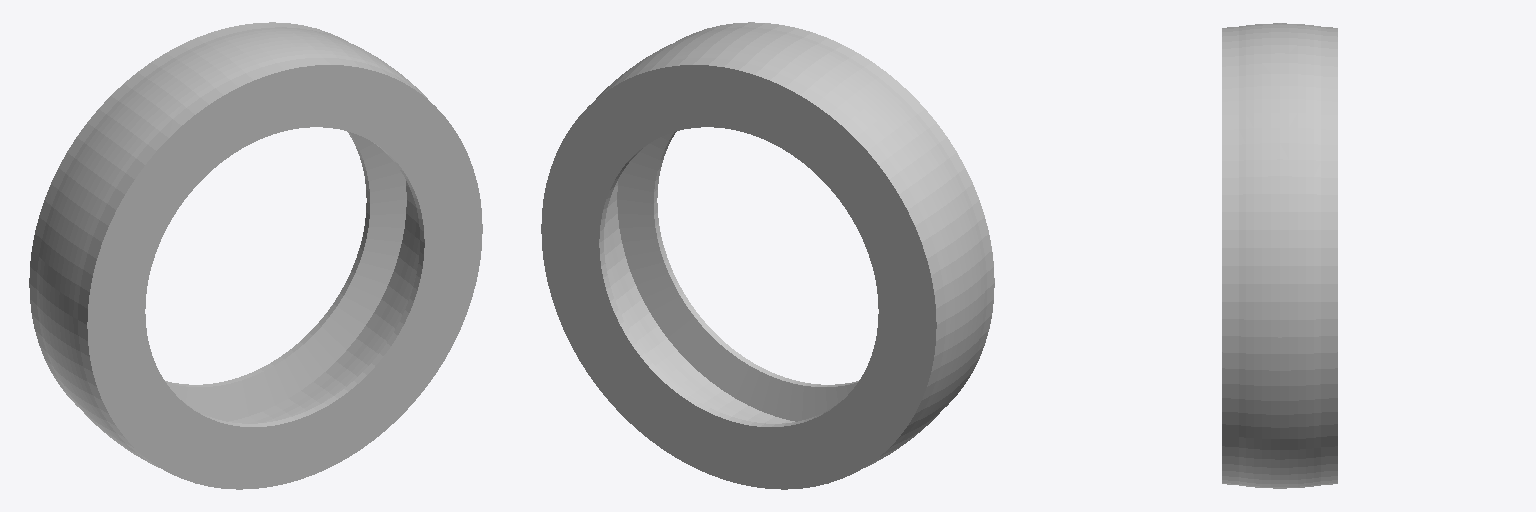
File: Tire.obj
The picture shows the model from 3 angles: view 1: azimuth 30°, elevation 25°; view 2: azimuth 150°, elevation 25°; view 3: azimuth 270°, elevation 25°; orthographic projection.
Parts seen in each view (by area): view 1: circle; view 2: circle; view 3: circle.
Boxes of the visible parts, x1,y1,x2,y2 form: circle: [29, 22, 482, 489]; circle: [541, 22, 994, 489]; circle: [1222, 23, 1337, 488].
Size of the model in its own units: 0.3487 by 0.3487 by 0.087.